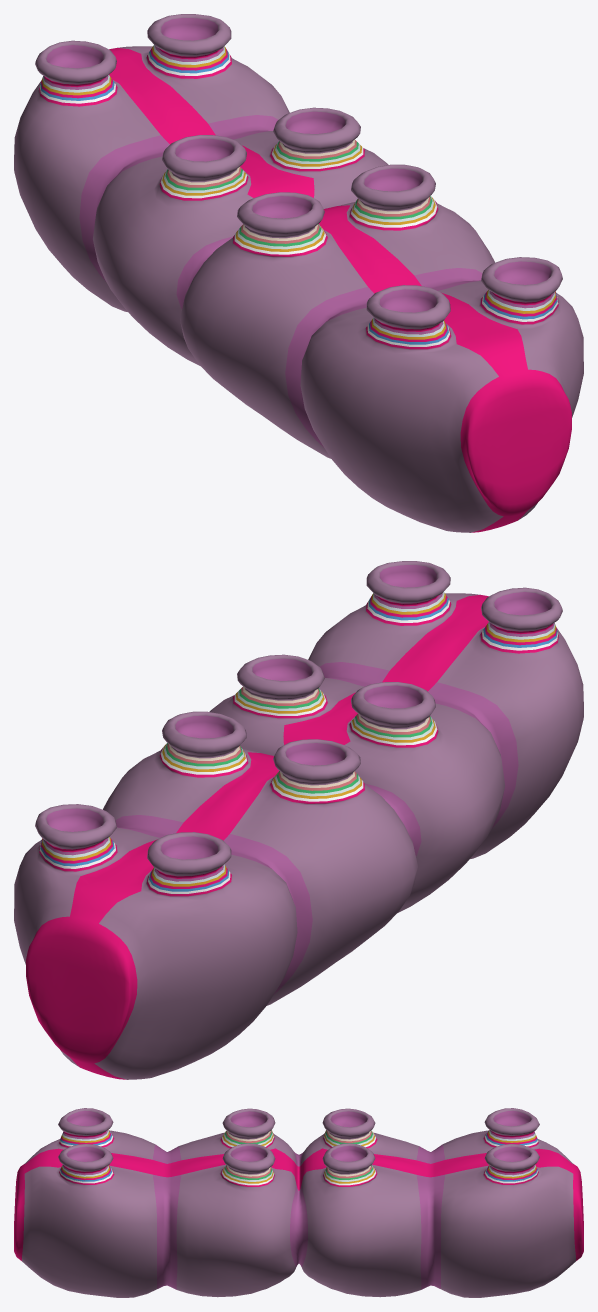
Rendered from OctopusTentacleBody.fbx.
3 views of the same model, one above another, from view 1: azimuth 30°, elevation 25°; view 2: azimuth 150°, elevation 25°; view 3: azimuth 270°, elevation 25° (orthographic). The views are drawn at different scales.
Visible parts, largest first — view 1: Tentacle Body; view 2: Tentacle Body; view 3: Tentacle Body.
Boxes of the visible parts, left/top/right/bottom form: Tentacle Body: left=14, top=14, right=583, bottom=532; Tentacle Body: left=14, top=561, right=583, bottom=1079; Tentacle Body: left=14, top=1108, right=583, bottom=1297.
Size of the model in its own units: 162 by 130 by 428.
